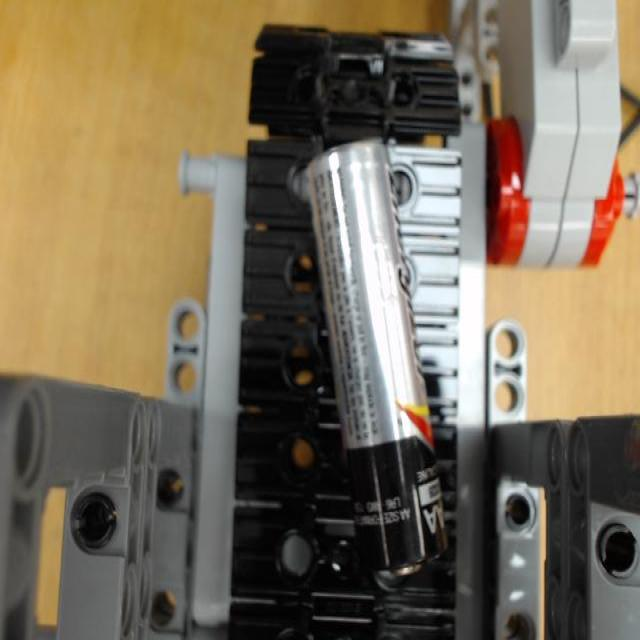AA: (302, 136, 450, 577)
